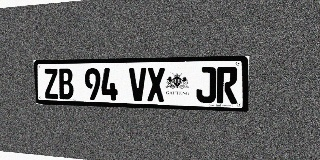4: (101, 68, 118, 100)
9: (84, 68, 101, 100)
B: (58, 68, 74, 99)
J: (196, 67, 216, 103)
R: (217, 67, 238, 104)
V: (129, 68, 147, 101)
X: (147, 67, 165, 102)
Z: (43, 68, 59, 99)
